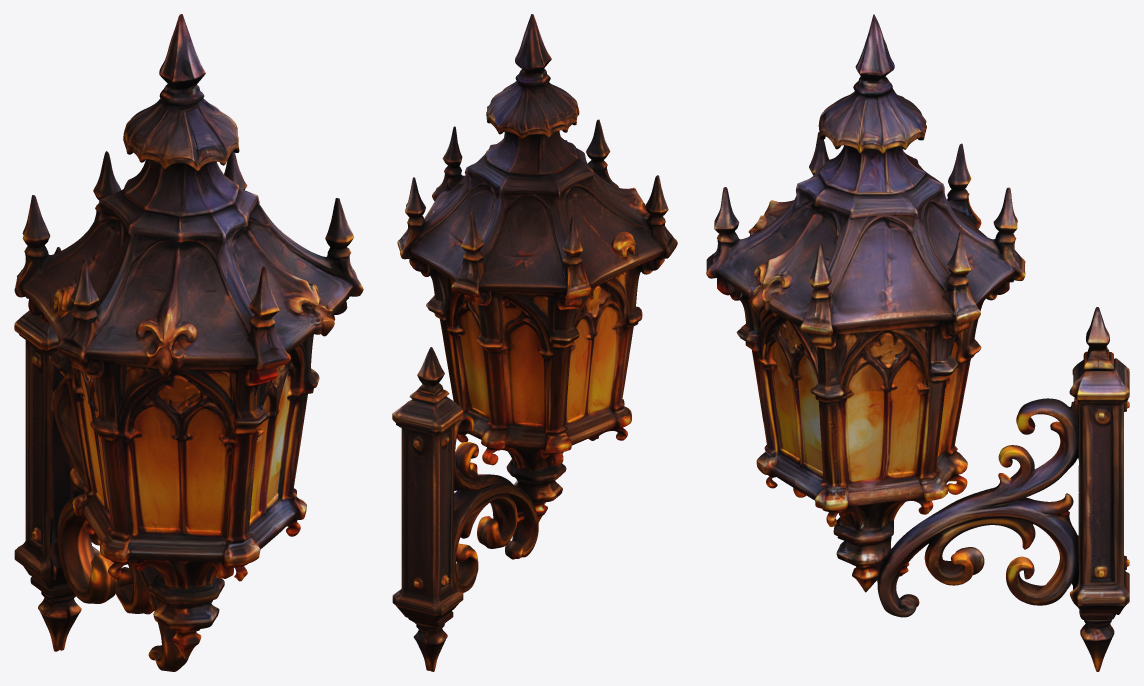
File: lamp.glb
3 renders of one model, left to right at view 1: azimuth 30°, elevation 25°; view 2: azimuth 150°, elevation 25°; view 3: azimuth 270°, elevation 25°, orthographic. The views are drawn at different scales.
Parts seen in each view (by area): view 1: model; view 2: model; view 3: model.
Part boxes in pixels (x1,y1,x2,y2): model: (14, 14, 363, 671); model: (392, 14, 677, 671); model: (706, 14, 1129, 671).
Size of the model in its own units: 0.808 by 1.9 by 1.11.
1 material, 1 textured.
